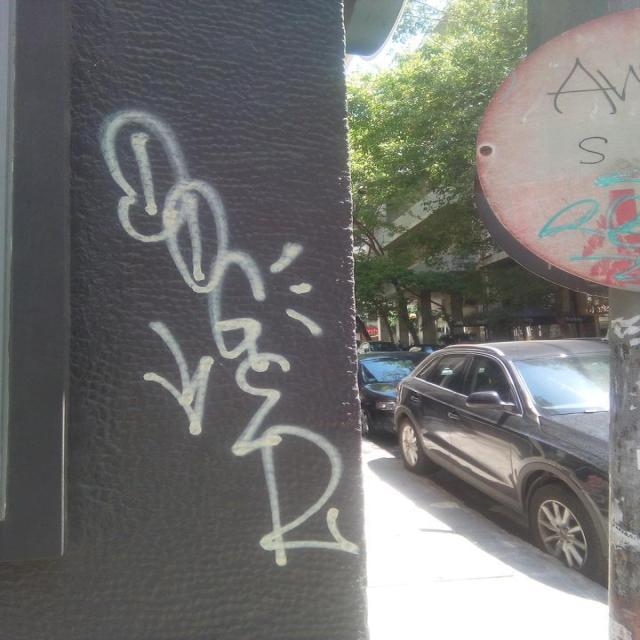nonspitting: (97, 110, 360, 560)
